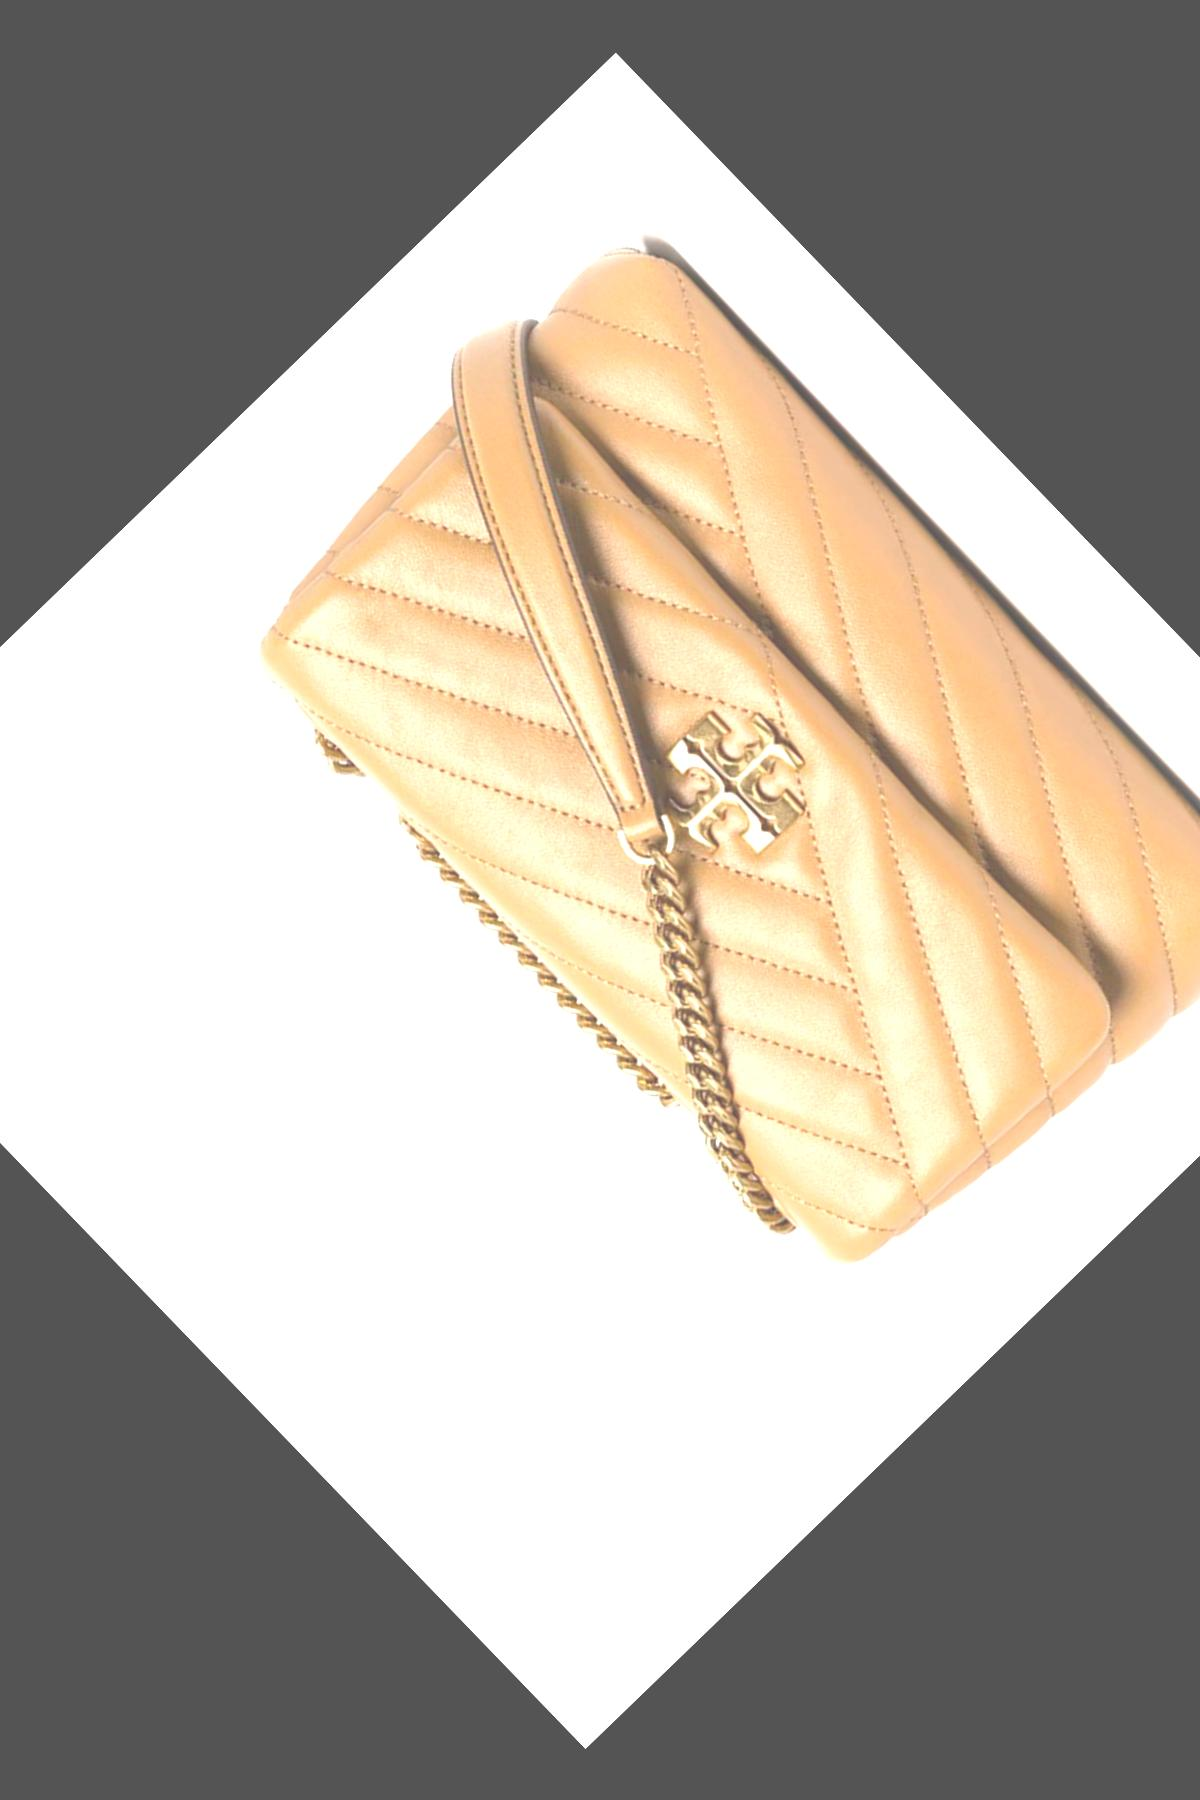TORY-BURCH: (636, 687, 828, 879)
